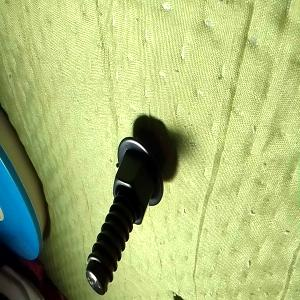parafuso: (86, 137, 164, 295)
